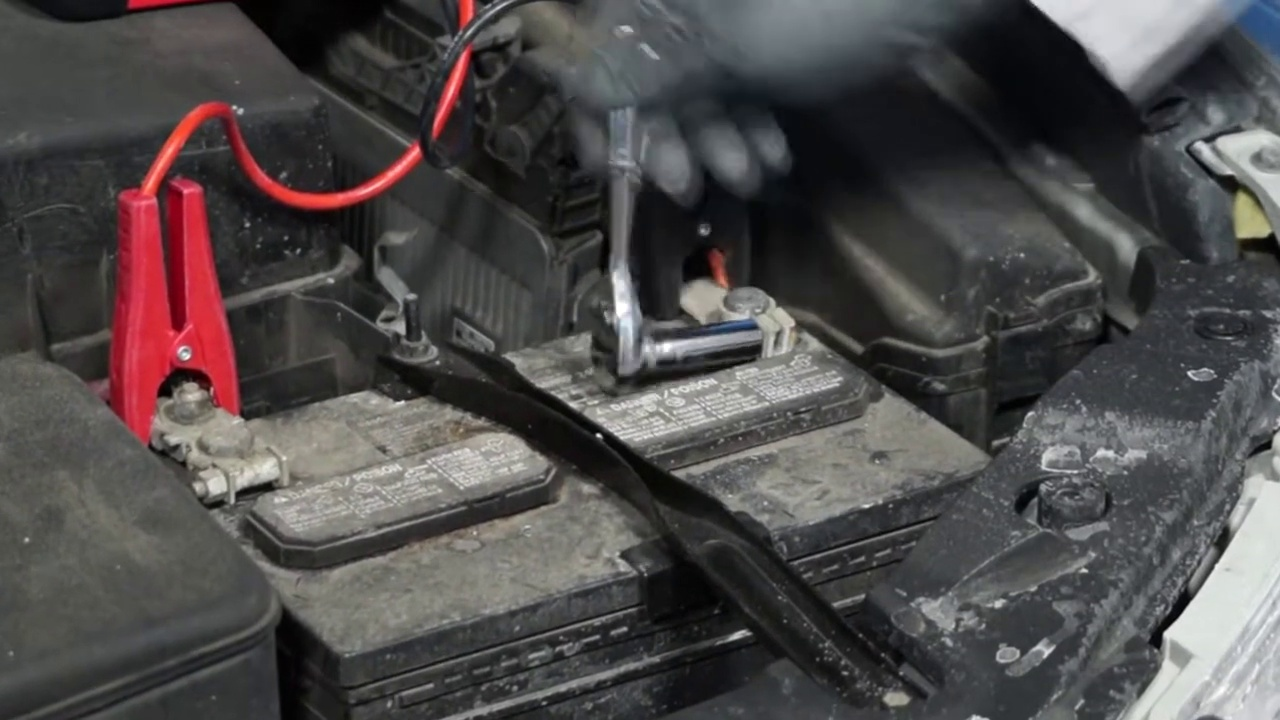battery: (148, 273, 1000, 657)
neg_connected: (681, 258, 810, 364)
neg_touched: (584, 56, 800, 381)
pos_connected: (113, 253, 279, 496)
